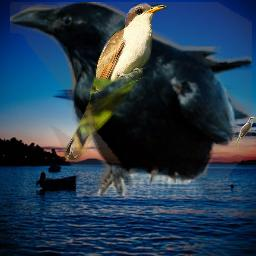Crow: (10, 2, 252, 196)
Cuckoo: (61, 0, 169, 164), (234, 117, 256, 148)
